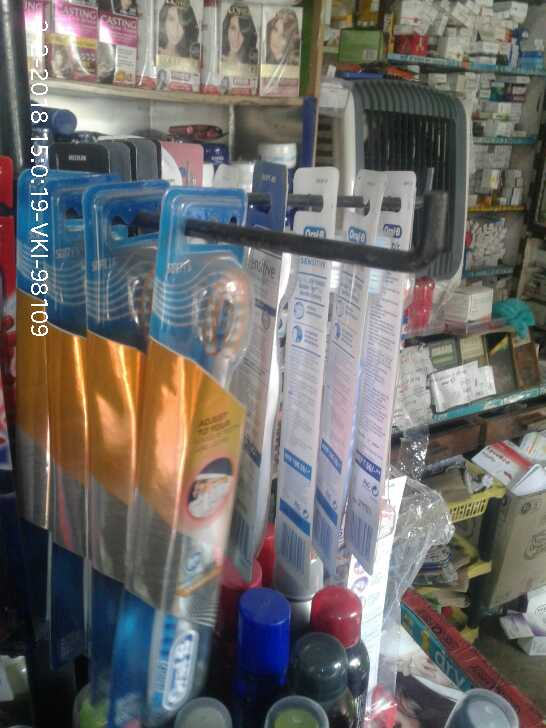oralb: (157, 189, 238, 705)
